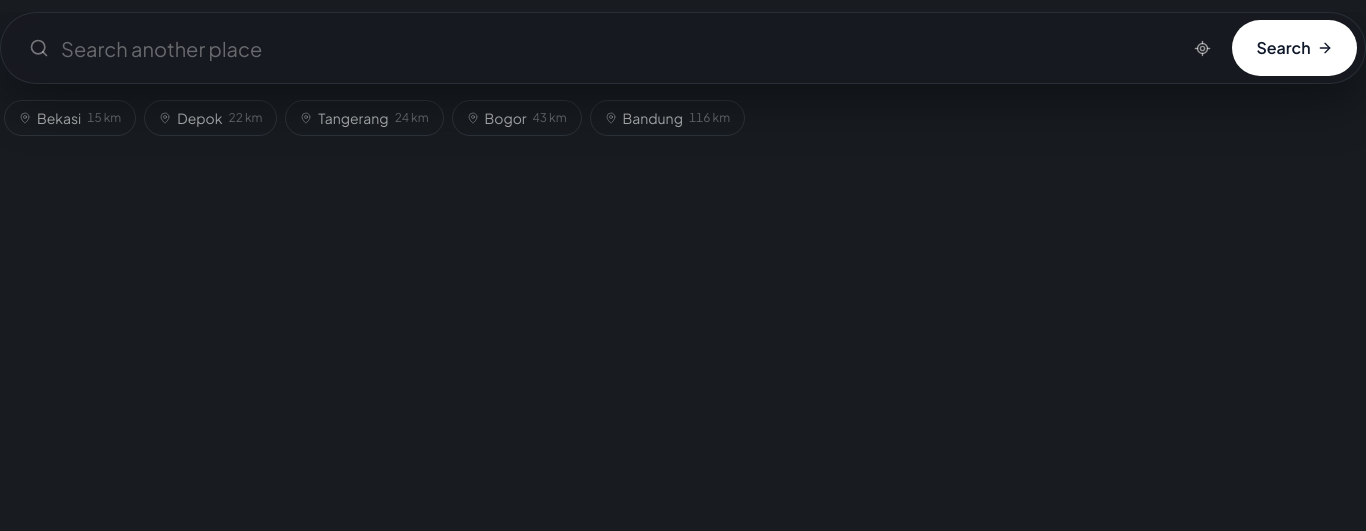
Test case: focus shows recommendations: your location and nearby cities
Focus the dropdown named "search for a city": (615, 48) [57, 13, 1172, 83]
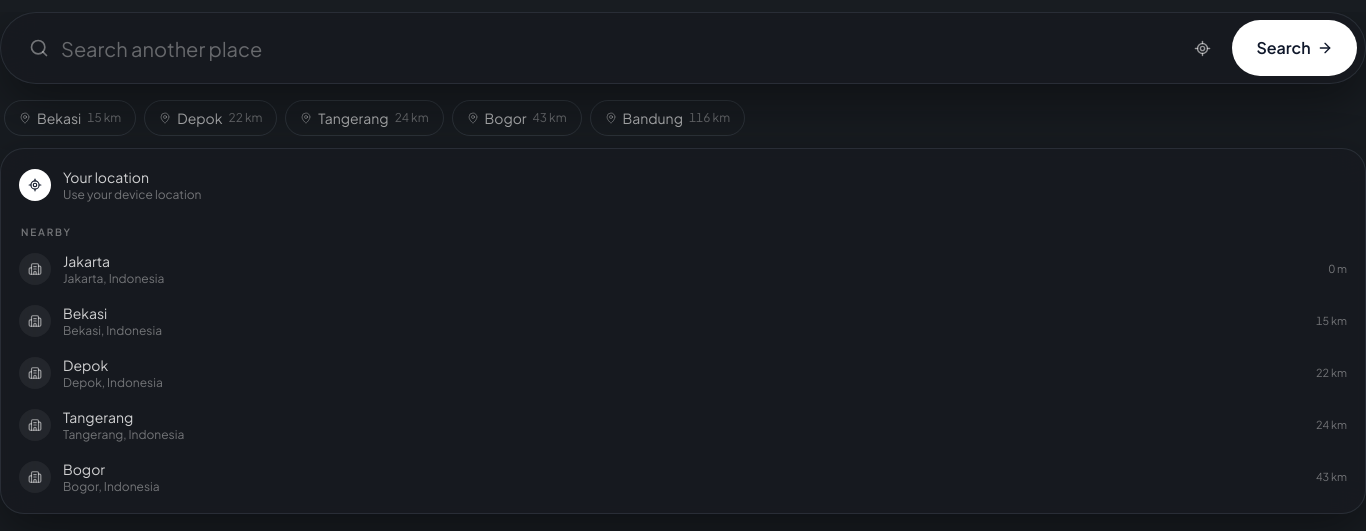
Check: the text "Your location" is shown, box [63, 168, 149, 186]
Check: the element "Nearby" is shown, box [9, 213, 1357, 505]
Check: the text "Jakarta" is shown, box [63, 252, 110, 270]
